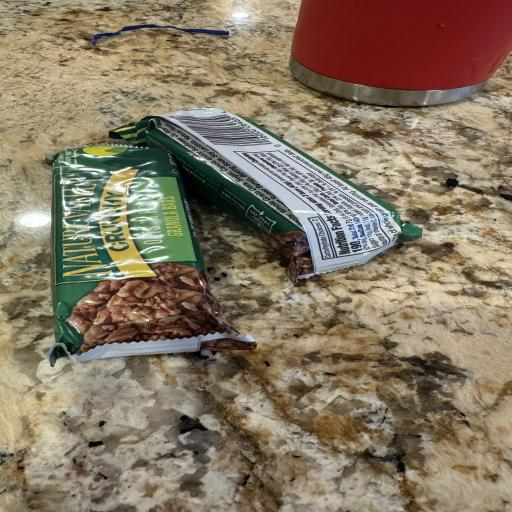granola: (110, 109, 421, 281), (49, 146, 255, 364)
